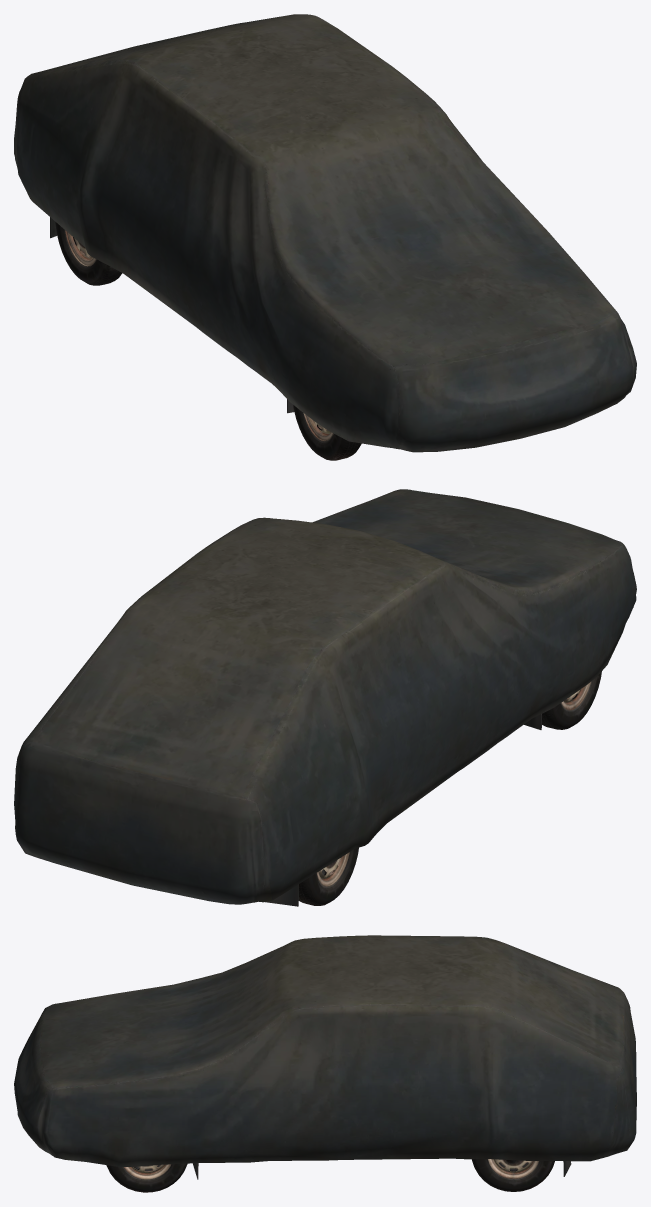
Rendered from covered_car.glb.
3 views of the same model, one above another, from view 1: azimuth 30°, elevation 25°; view 2: azimuth 150°, elevation 25°; view 3: azimuth 270°, elevation 25° (orthographic). The views are drawn at different scales.
Visible parts, largest first — view 1: covered_car, covered_car_wheel_03, covered_car_wheel_02; view 2: covered_car, covered_car_wheel_03, covered_car_wheel_02; view 3: covered_car, covered_car_wheel_04, covered_car_wheel_01.
Part boxes in pixels (x1,y1,x2,y2): covered_car: (14, 14, 636, 452); covered_car_wheel_03: (55, 222, 122, 285); covered_car_wheel_02: (293, 405, 361, 460); covered_car: (14, 489, 636, 906); covered_car_wheel_03: (298, 847, 358, 905); covered_car_wheel_02: (542, 671, 601, 729); covered_car: (14, 935, 636, 1179); covered_car_wheel_04: (472, 1159, 554, 1191); covered_car_wheel_01: (106, 1163, 187, 1192).
Size of the model in its own units: 1.79 by 1.41 by 4.38.
1 material, 1 textured.
